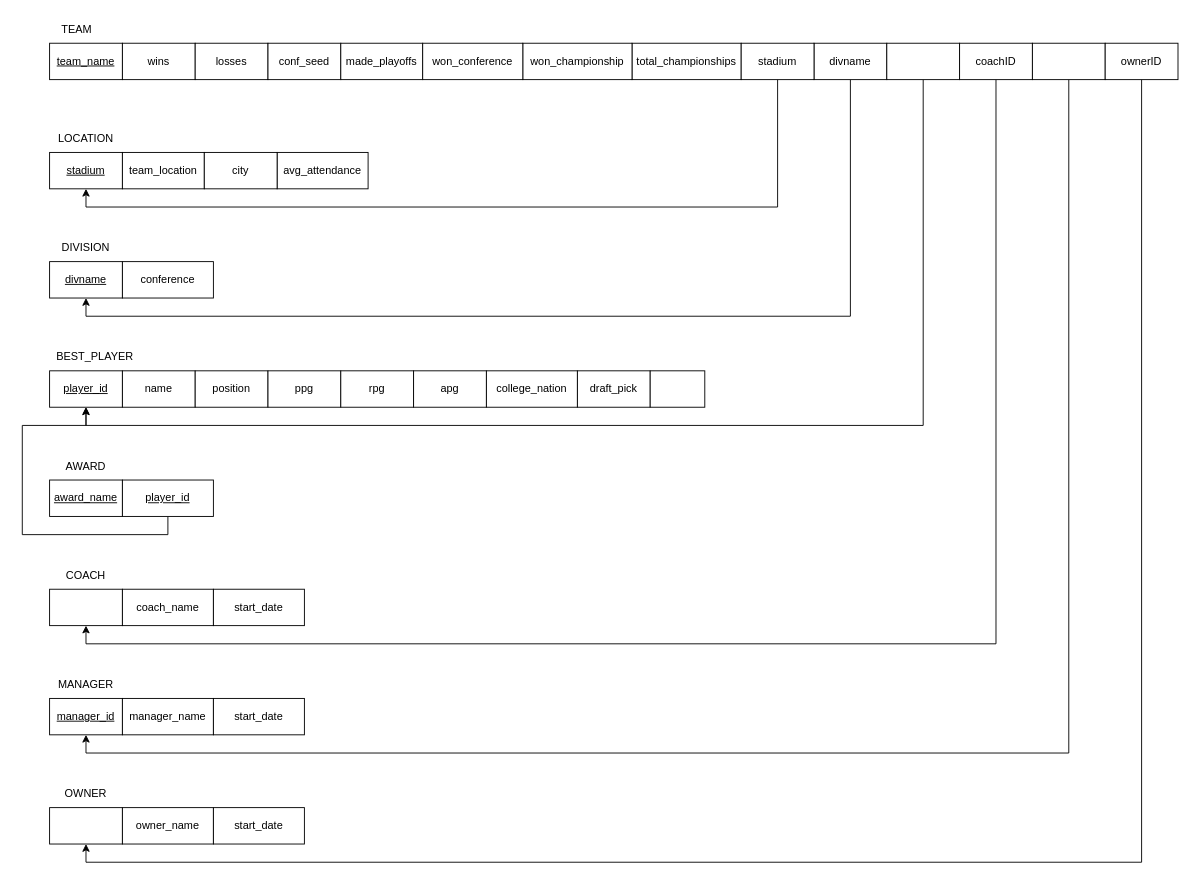
This 1194x885 diagram has some shape labels left out. The shapes that lost their labels are listed below. From the top down, each one's centre as x and y in pixels, then its label:
At point 923,61: "playerID".
At point 1068,61: "managerID".
At point 677,388: "year".
At point 85,607: "coach_id".
At point 85,825: "owner_id".
